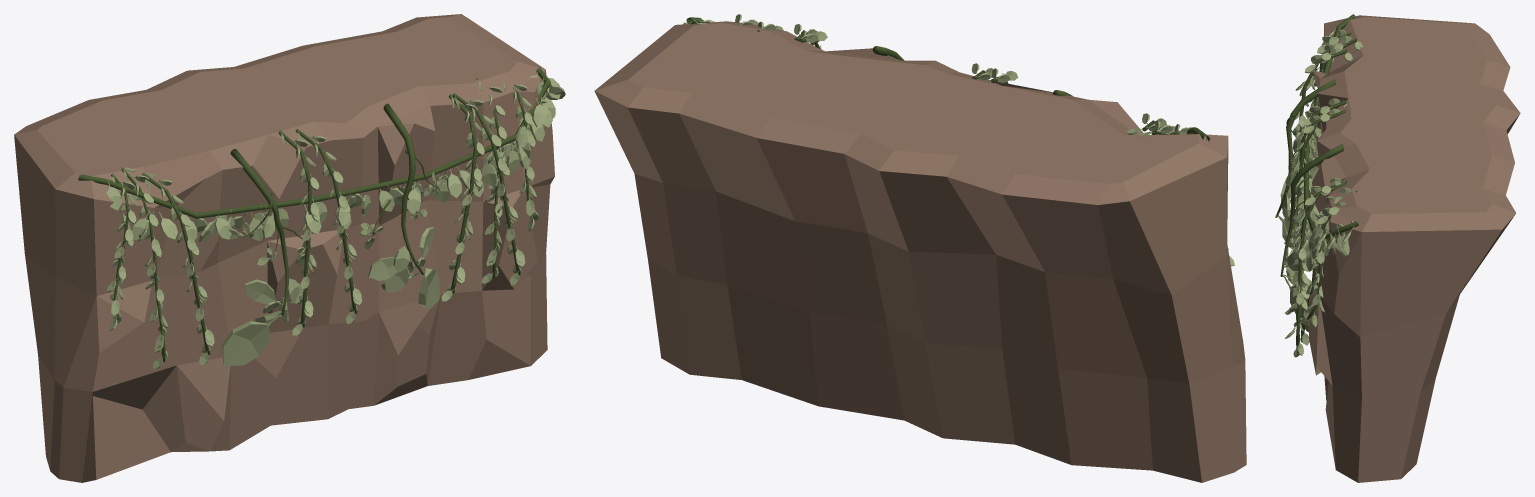
File: rock_wall_with_vines.fbx
3 renders of one model, left to right at view 1: azimuth 30°, elevation 25°; view 2: azimuth 150°, elevation 25°; view 3: azimuth 270°, elevation 25°, orthographic. The views are drawn at different scales.
Parts seen in each view (by area): view 1: wall detail 3, BezierCurve.015, BezierCurve.011, BezierCurve.021, BezierCurve.009, BezierCurve.004, BezierCurve.019, BezierCurve.008, BezierCurve.020; view 2: wall detail 3; view 3: wall detail 3, BezierCurve.011, BezierCurve.015, BezierCurve.021, BezierCurve.008, BezierCurve.020, BezierCurve.004.
Boxes of the visible parts, bbox=[...] form: wall detail 3: bbox=[14, 14, 554, 482]; BezierCurve.015: bbox=[222, 149, 303, 366]; BezierCurve.011: bbox=[368, 103, 439, 308]; BezierCurve.021: bbox=[78, 67, 550, 218]; BezierCurve.009: bbox=[448, 94, 477, 293]; BezierCurve.004: bbox=[142, 173, 209, 355]; BezierCurve.019: bbox=[278, 130, 311, 327]; BezierCurve.008: bbox=[452, 93, 520, 275]; BezierCurve.020: bbox=[295, 129, 356, 314]; wall detail 3: bbox=[594, 21, 1246, 482]; wall detail 3: bbox=[1309, 15, 1520, 482]; BezierCurve.011: bbox=[1280, 144, 1343, 332]; BezierCurve.015: bbox=[1275, 79, 1336, 248]; BezierCurve.021: bbox=[1304, 14, 1358, 241]; BezierCurve.008: bbox=[1296, 182, 1347, 352]; BezierCurve.020: bbox=[1295, 110, 1345, 245]; BezierCurve.004: bbox=[1296, 49, 1347, 196].
Size of the model in its own units: 275 by 154 by 128.
